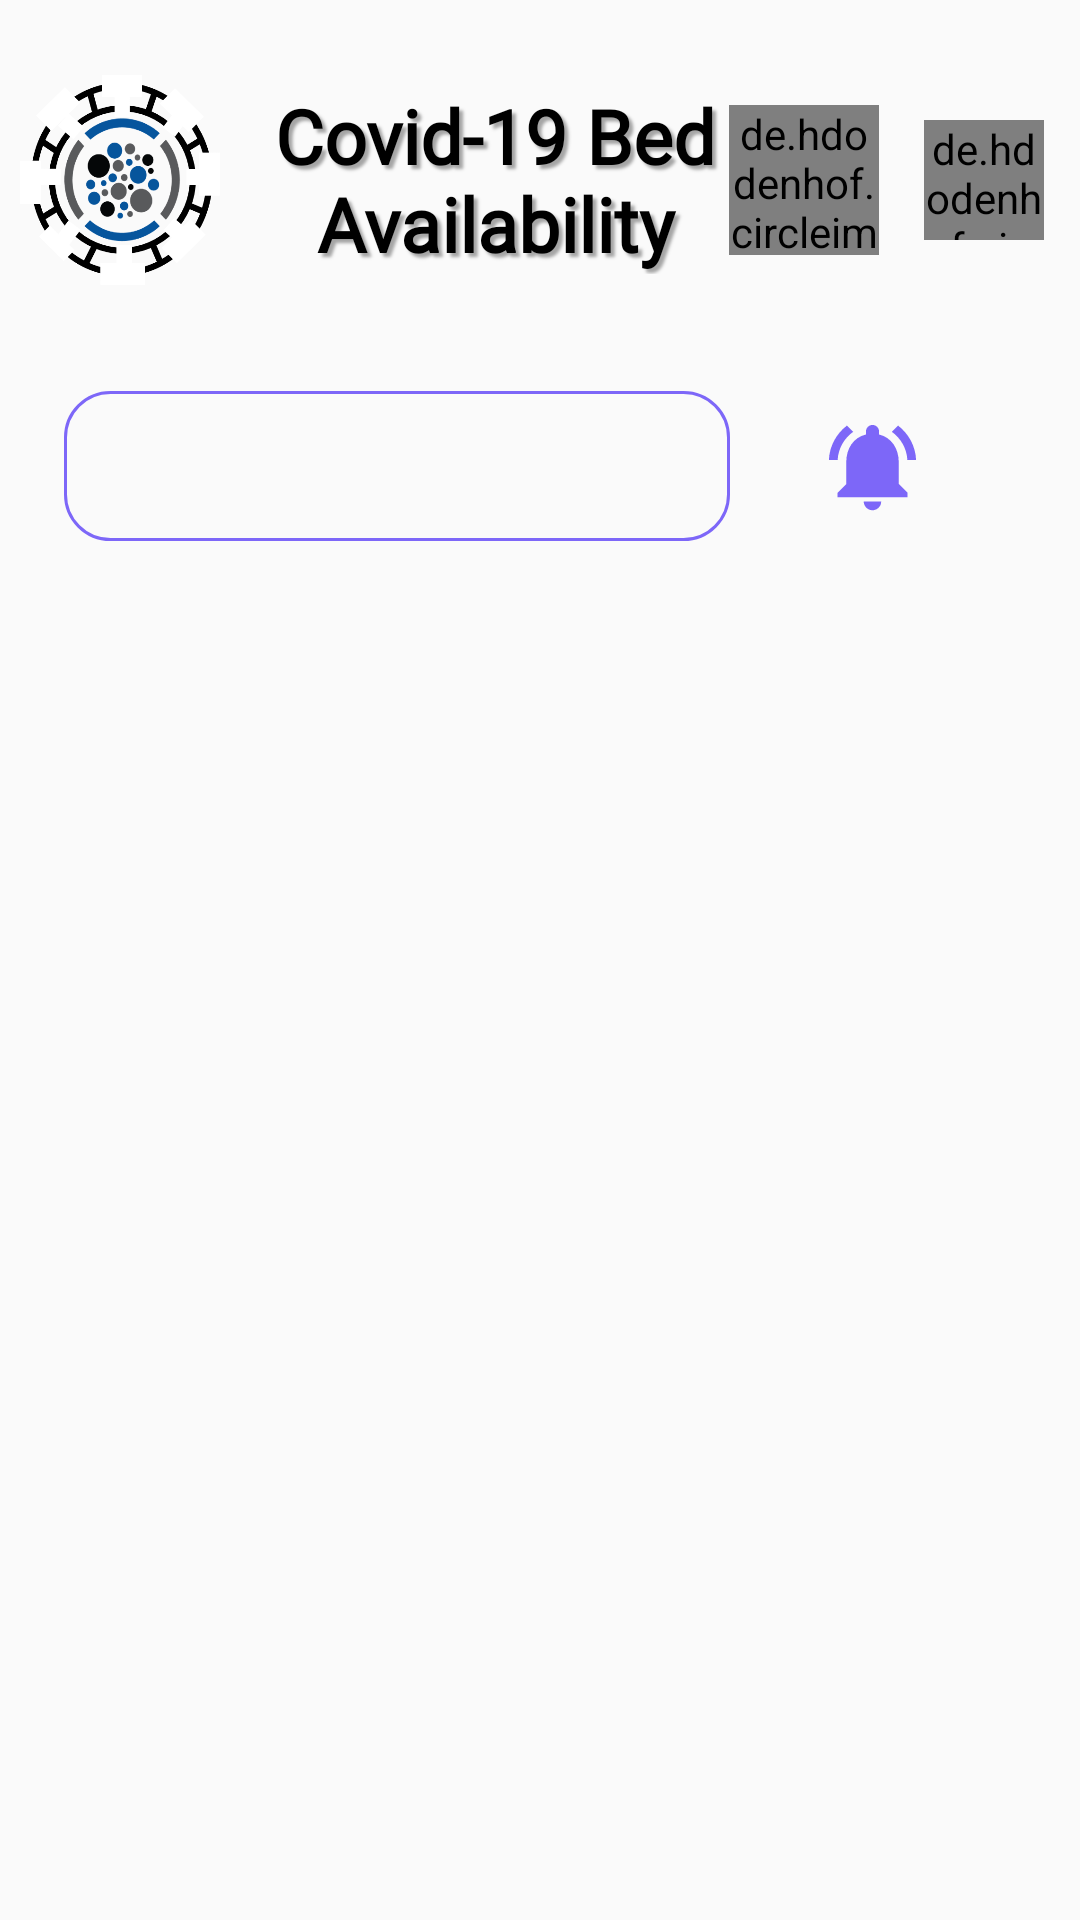

Named icons in this screenshot (1080×1920) and their centers, (x=x, y=y):
notifications: (x=872, y=468)
